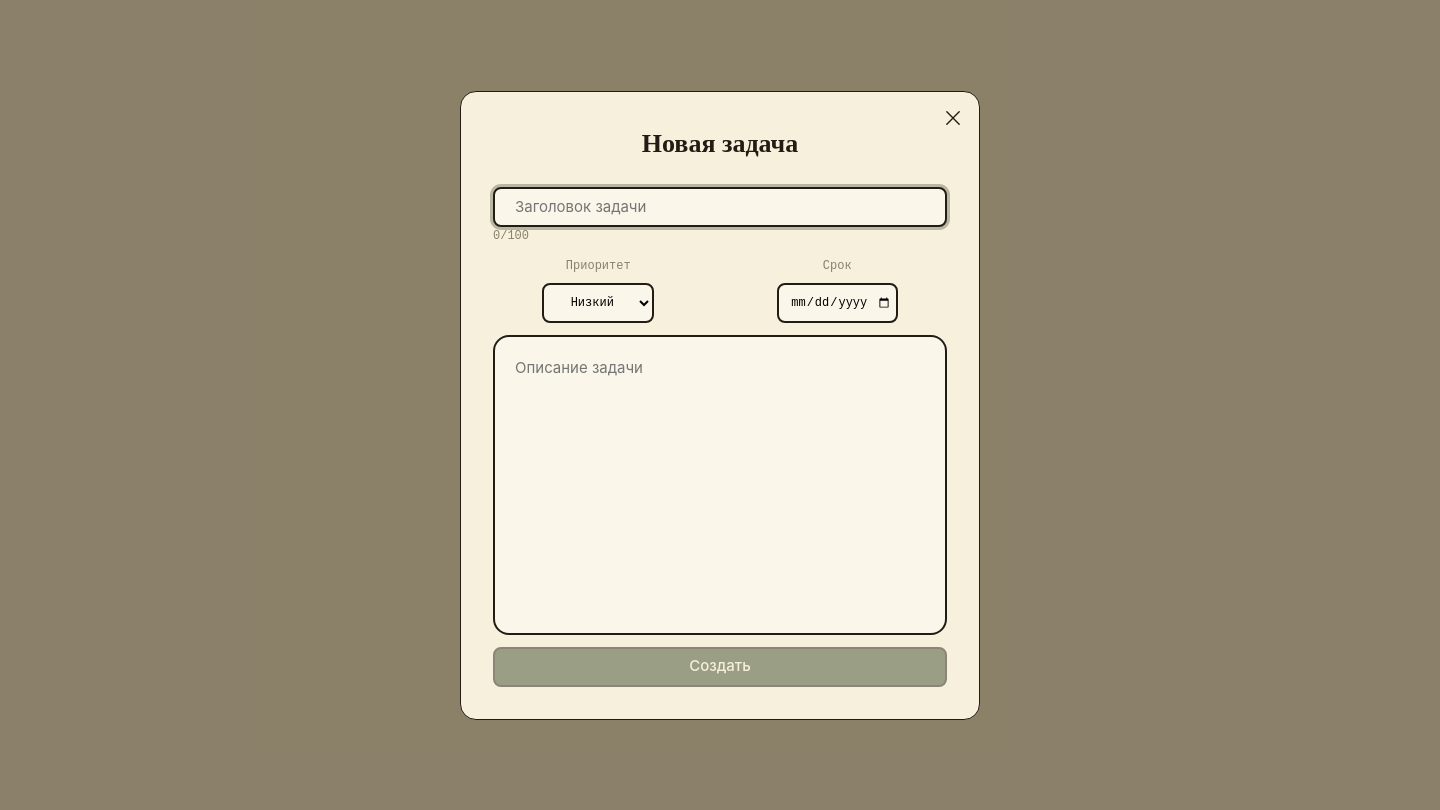
Scenario: CreateTaskModal › updates character counter
Step 1. Type "t" into the field with placeholder "Заголовок задачи" → {"x": 720, "y": 206}, box [493, 186, 947, 226]
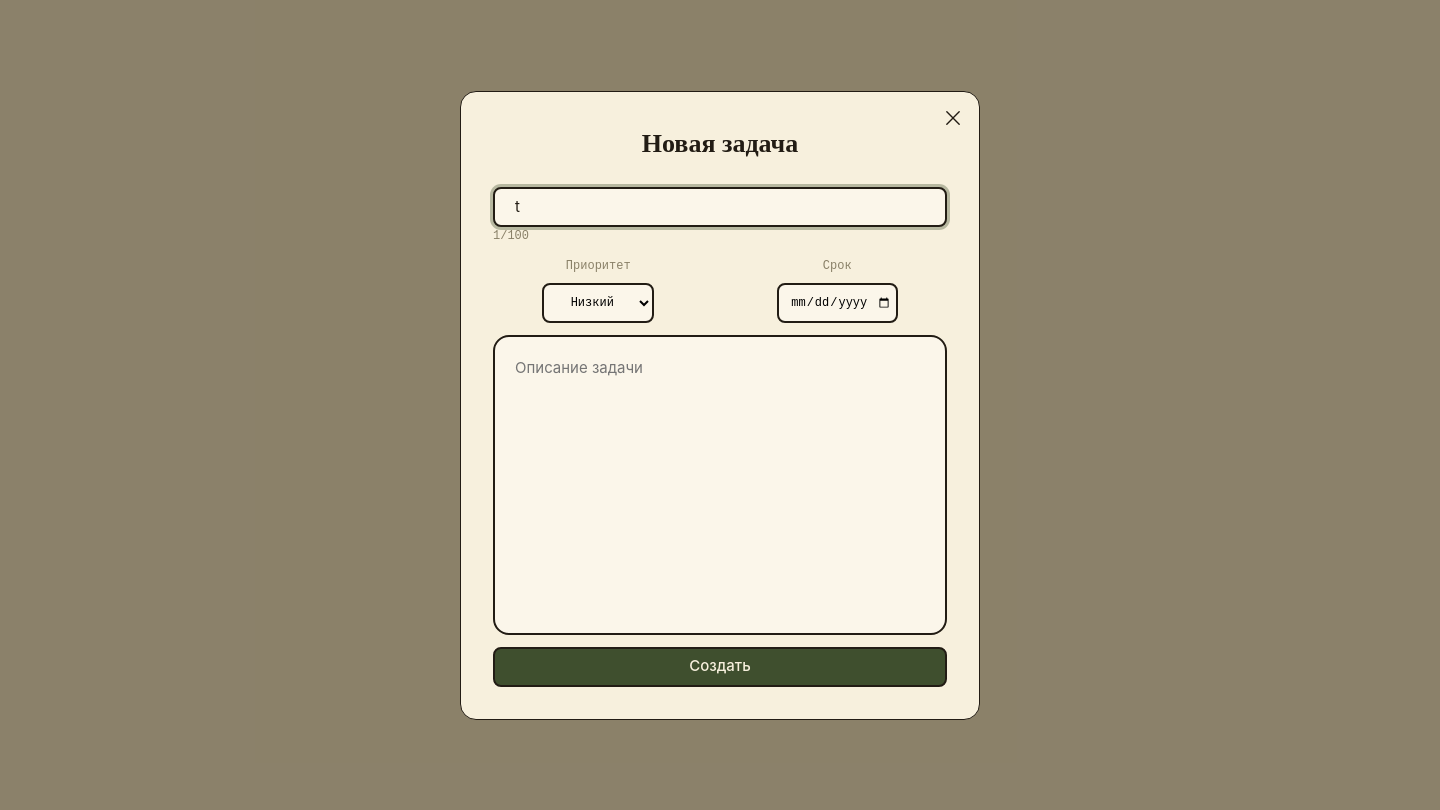
Expected: the text "1/100" is shown, [493, 228, 529, 242]
Step 2. Type "est" into the field with placeholder "Заголовок задачи" → {"x": 720, "y": 206}, box [493, 186, 947, 226]
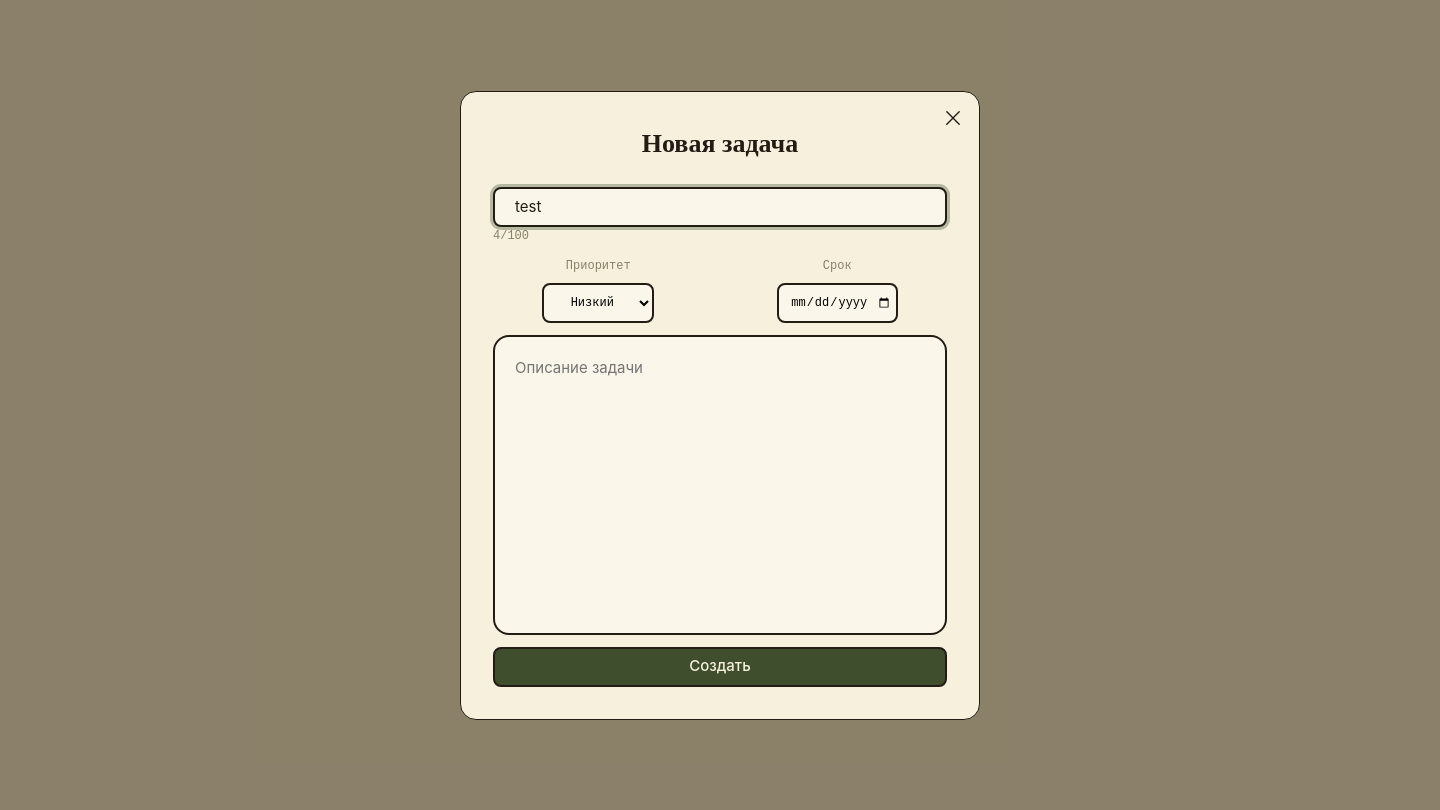
Expected: the text "4/100" is shown, [493, 228, 529, 242]
